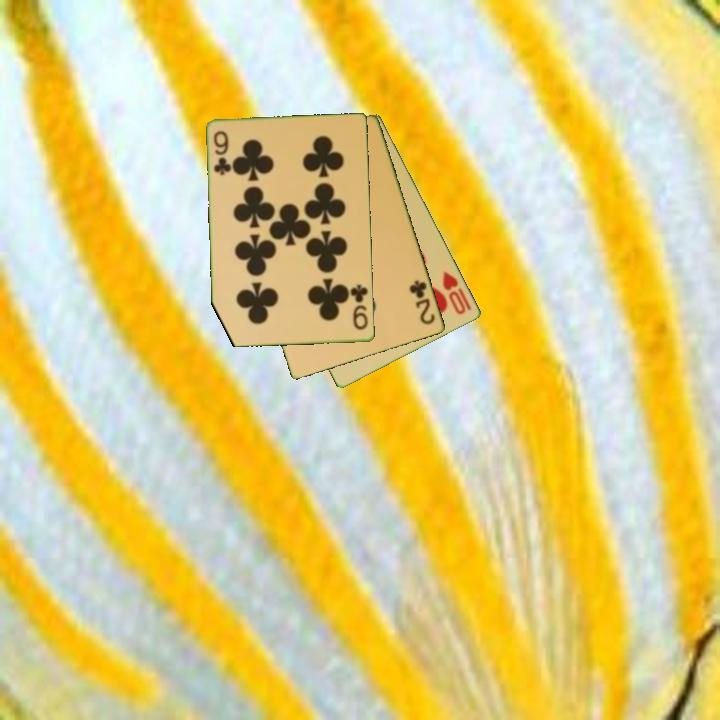10h: (439, 268, 469, 318)
2c: (406, 277, 438, 328)
9c: (347, 282, 371, 333), (210, 128, 233, 178)
